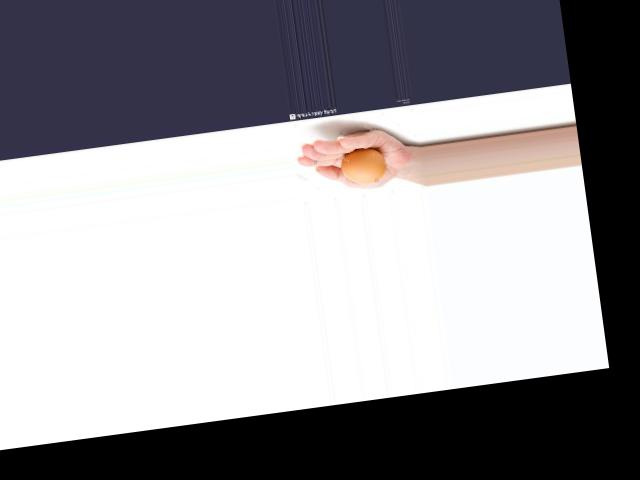egg: (339, 145, 389, 186)
